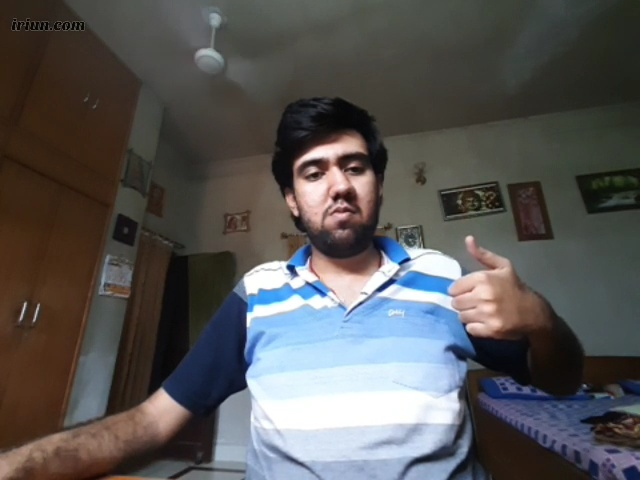Ok: (447, 234, 541, 337)
